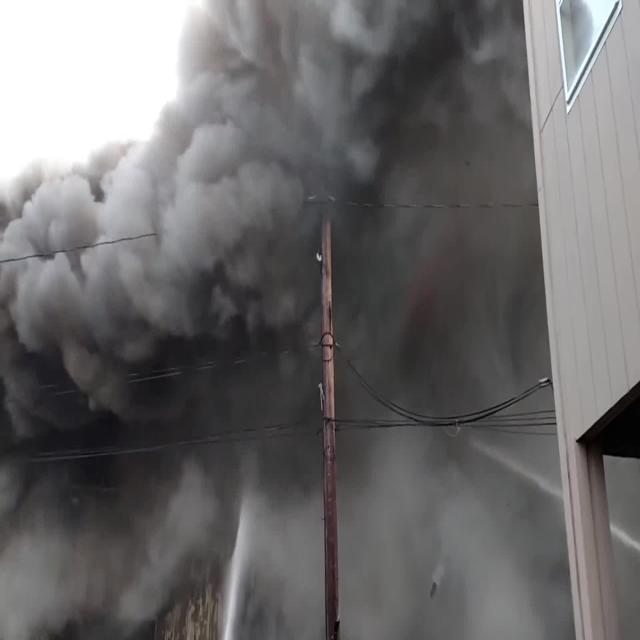Smoke: (24, 118, 563, 640), (180, 0, 546, 640), (0, 95, 308, 467)
